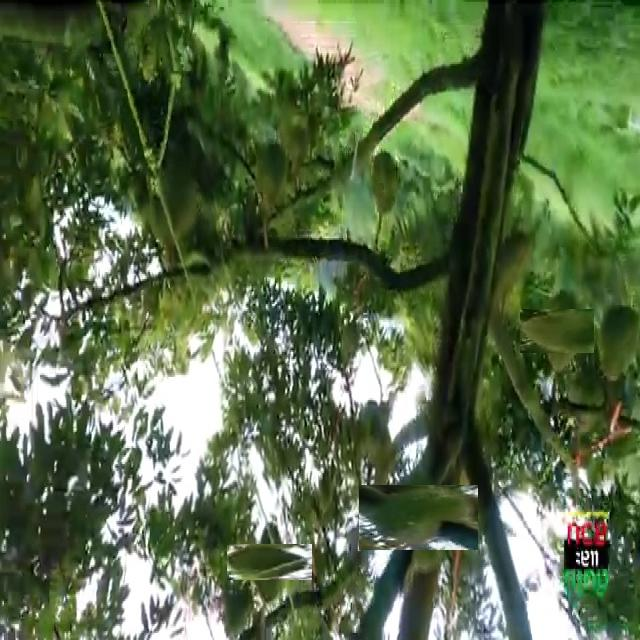durian: (372, 471, 464, 564), (530, 299, 594, 363), (240, 531, 300, 592), (594, 300, 639, 380), (356, 398, 396, 475), (255, 135, 288, 210), (369, 145, 401, 213)
